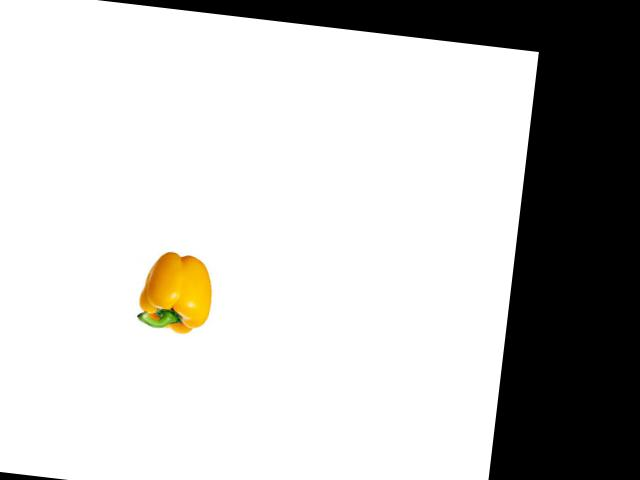bell_pepper: (127, 245, 222, 344)
